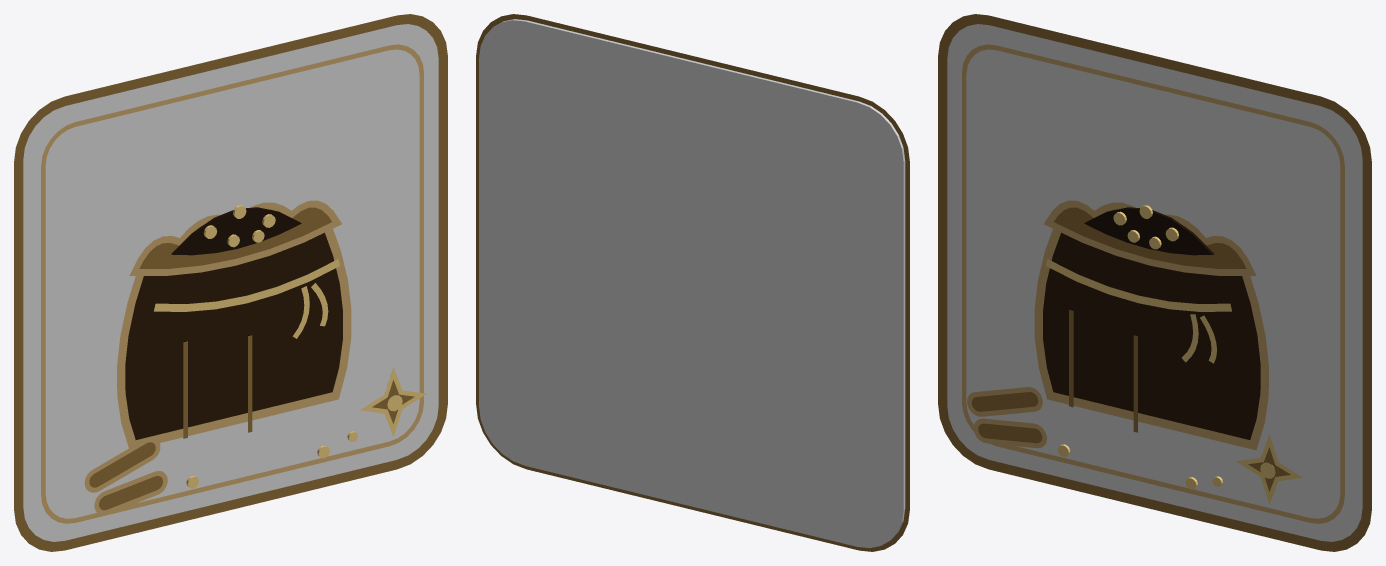
File: obj-meshok-pryanostey.glb
3 views of the same model, side by side, from view 1: azimuth 30°, elevation 25°; view 2: azimuth 150°, elevation 25°; view 3: azimuth 330°, elevation 25° (orthographic).
Visible parts, largest first — view 1: obj-meshok-pryanostey; view 2: obj-meshok-pryanostey; view 3: obj-meshok-pryanostey.
Part boxes in pixels (<box>): obj-meshok-pryanostey: <box>14,14,447,551</box>; obj-meshok-pryanostey: <box>476,14,909,551</box>; obj-meshok-pryanostey: <box>938,14,1371,551</box>.
Size of the model in its own units: 0.3917 by 0.3917 by 0.05.
